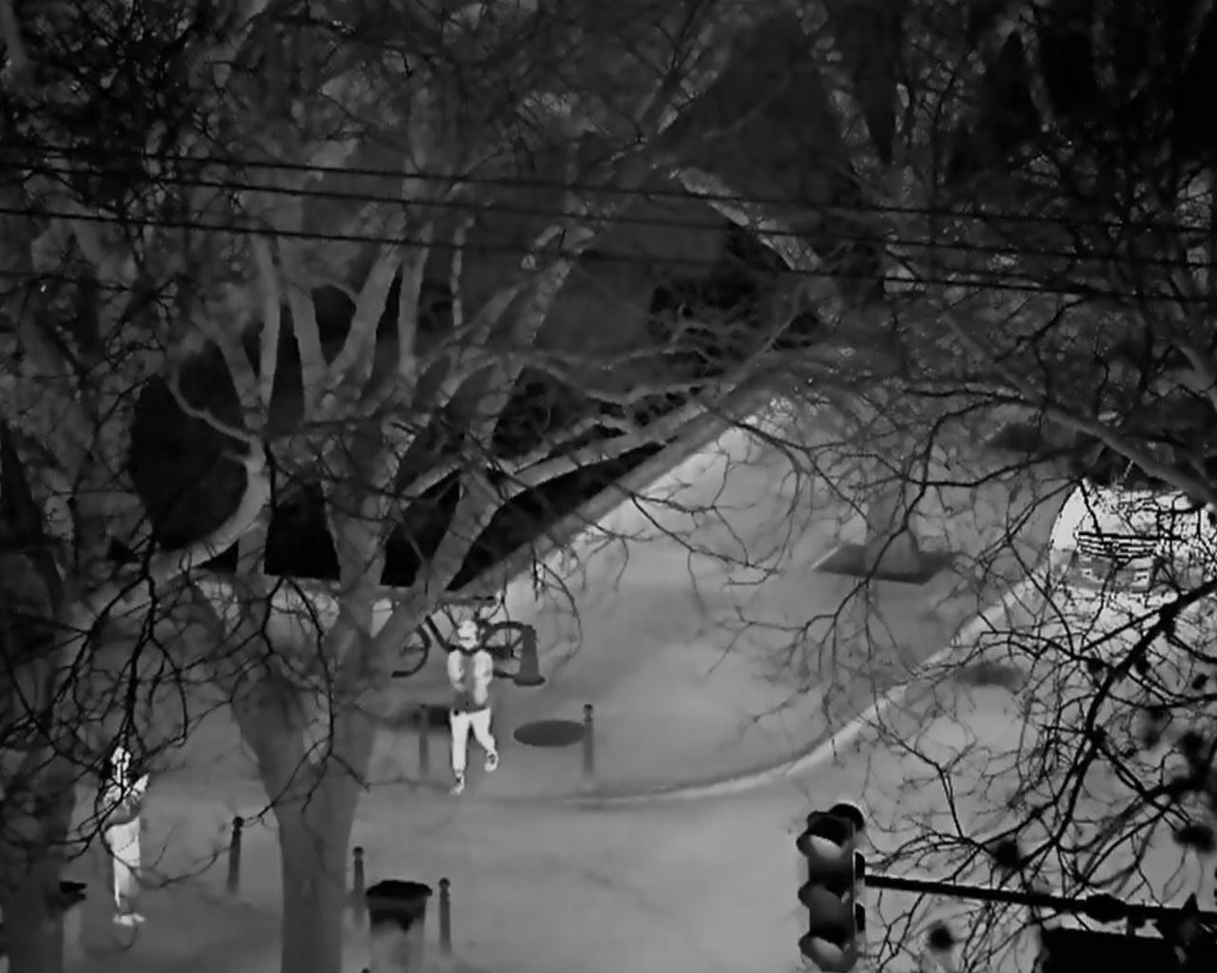person: (445, 618, 500, 795), (100, 745, 150, 926)
